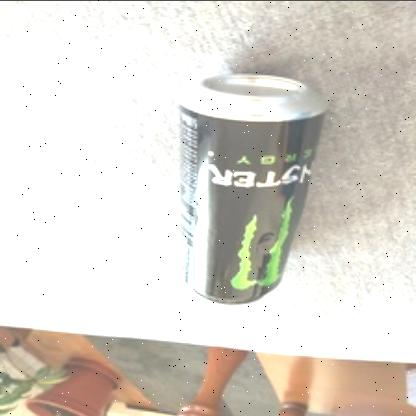Can: (180, 71, 330, 305)
